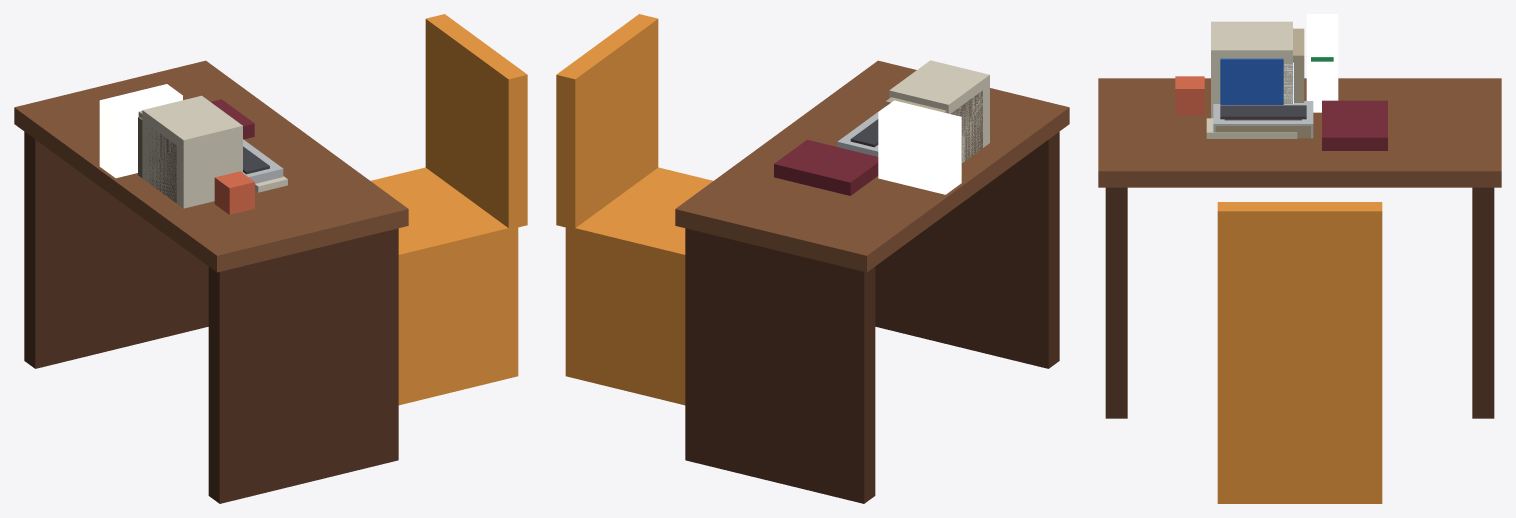
Rendered from desk.glb.
The picture shows the model from 3 angles, left to right: view 1: azimuth 30°, elevation 25°; view 2: azimuth 150°, elevation 25°; view 3: azimuth 270°, elevation 25°; orthographic projection.
Visible parts, largest first — view 1: Box2, Box1, Box3, Box6, Box7, Box9, Box11, Box5, Box19, Box17; view 2: Box3, Box1, Box2, Box6, Box7, Box11, Box9, Box4, Box19, Box17; view 3: Box1, Box7, Box6, Box2, Box3, Box9, Box4, Box10, Box11, Box18, Box5, Box17 (+3 smaller).
Part boxes in pixels (x1=…): Box2: x1=208, y1=228, x2=398, y2=503; Box1: x1=14, y1=60, x2=408, y2=272; Box3: x1=24, y1=131, x2=208, y2=368; Box6: x1=371, y1=167, x2=518, y2=405; Box7: x1=425, y1=14, x2=527, y2=229; Box9: x1=142, y1=95, x2=242, y2=208; Box11: x1=99, y1=84, x2=182, y2=178; Box5: x1=214, y1=171, x2=254, y2=214; Box19: x1=138, y1=116, x2=176, y2=202; Box17: x1=243, y1=139, x2=283, y2=183; Box3: x1=685, y1=228, x2=875, y2=503; Box1: x1=675, y1=60, x2=1069, y2=272; Box2: x1=875, y1=131, x2=1059, y2=368; Box6: x1=565, y1=167, x2=712, y2=405; Box7: x1=556, y1=14, x2=658, y2=229; Box11: x1=878, y1=100, x2=961, y2=194; Box9: x1=889, y1=60, x2=989, y2=162; Box4: x1=774, y1=139, x2=878, y2=195; Box19: x1=951, y1=90, x2=982, y2=163; Box17: x1=837, y1=106, x2=885, y2=156; Box1: x1=1098, y1=78, x2=1501, y2=187; Box7: x1=1217, y1=202, x2=1382, y2=360; Box6: x1=1217, y1=361, x2=1382, y2=503; Box2: x1=1105, y1=187, x2=1127, y2=418; Box3: x1=1472, y1=187, x2=1494, y2=418; Box9: x1=1211, y1=21, x2=1292, y2=118; Box4: x1=1322, y1=100, x2=1387, y2=150; Box10: x1=1220, y1=58, x2=1283, y2=104; Box11: x1=1306, y1=14, x2=1338, y2=112; Box18: x1=1220, y1=105, x2=1306, y2=119; Box5: x1=1175, y1=76, x2=1204, y2=115; Box17: x1=1213, y1=101, x2=1313, y2=138.
Bounding box in the file's own units: 1.16 × 0.9596 × 1.1.
